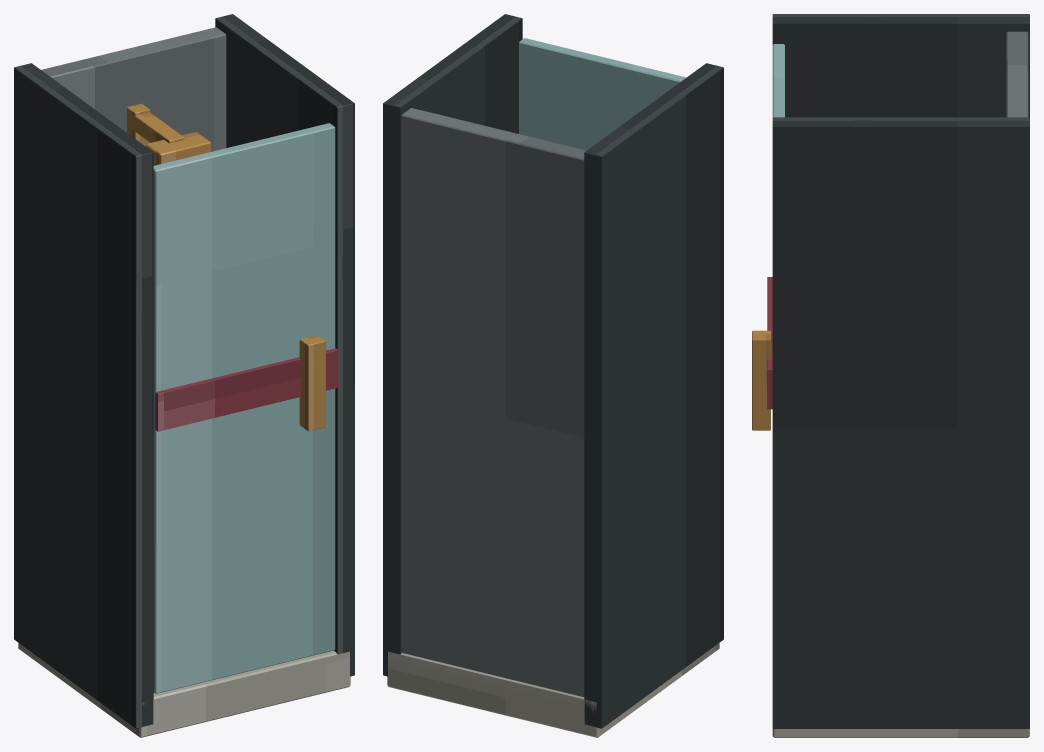
The model's file is public_womens_shower_stall.glb.
3 views of the same model, side by side, from view 1: azimuth 30°, elevation 25°; view 2: azimuth 150°, elevation 25°; view 3: azimuth 270°, elevation 25° (orthographic). The views are drawn at different scales.
Visible parts, largest first — view 1: ShowerGlassDoor, ShowerPost-0.39, ShowerPost0.39, ShowerBack, ShowerPan, ShowerDoorBand, ShowerDoorHandle, ShowerHead, ShowerHeadArm; view 2: ShowerBack, ShowerPost-0.39, ShowerPost0.39, ShowerGlassDoor, ShowerPan; view 3: ShowerPost0.39, ShowerPost-0.39, ShowerPan, ShowerBack, ShowerDoorHandle, ShowerGlassDoor, ShowerDoorBand.
Boxes of the visible parts, box(x1,y1,x2,y2) form: ShowerGlassDoor: box(153, 123, 335, 693); ShowerPost-0.39: box(14, 63, 153, 728); ShowerPost0.39: box(215, 14, 354, 676); ShowerBack: box(41, 27, 226, 151); ShowerPan: box(18, 643, 350, 737); ShowerDoorBand: box(155, 348, 338, 431); ShowerDoorHandle: box(299, 335, 325, 431); ShowerHead: box(146, 132, 211, 165); ShowerHeadArm: box(128, 111, 184, 143); ShowerBack: box(401, 108, 586, 697); ShowerPost-0.39: box(584, 63, 723, 728); ShowerPost0.39: box(383, 14, 522, 676); ShowerGlassDoor: box(519, 38, 686, 150); ShowerPan: box(387, 643, 719, 737); ShowerPost0.39: box(772, 117, 1029, 728); ShowerPost-0.39: box(772, 14, 1029, 117); ShowerPan: box(772, 729, 1029, 737); ShowerBack: box(1006, 31, 1028, 117); ShowerDoorHandle: box(752, 330, 770, 430); ShowerGlassDoor: box(772, 44, 784, 117); ShowerDoorBand: box(767, 277, 772, 409).
Size of the model in its own units: 0.85 by 2.16 by 0.885.
Materials: 1 (1 with a texture image).
